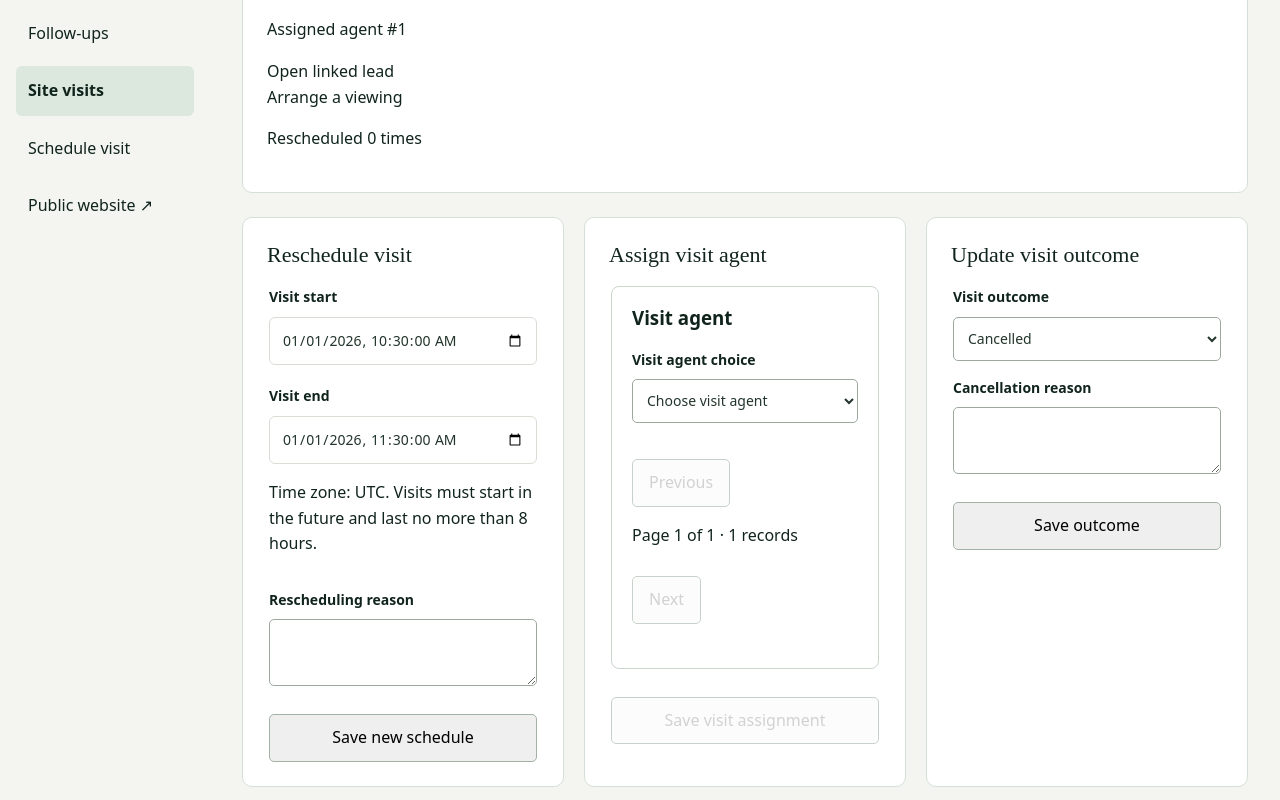
Scenario: assigns an eligible visit agent through a narrow PATCH
(page scrolled)
Step 1. Select "Ravi" in the dropdown labelled "Visit agent choice" → (745, 401), box [632,379,858,423]
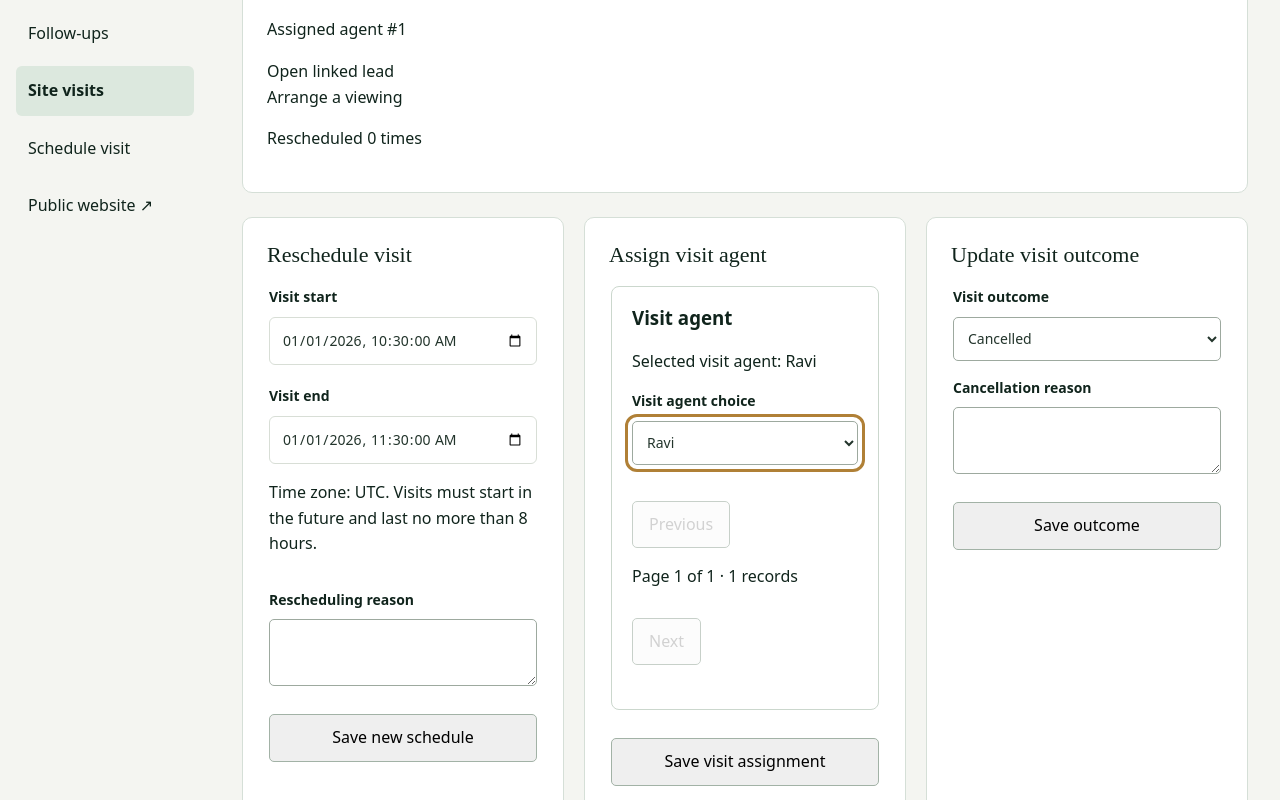
Step 2. Click the button "Save visit assignment" → (745, 762), box [611,738,879,786]
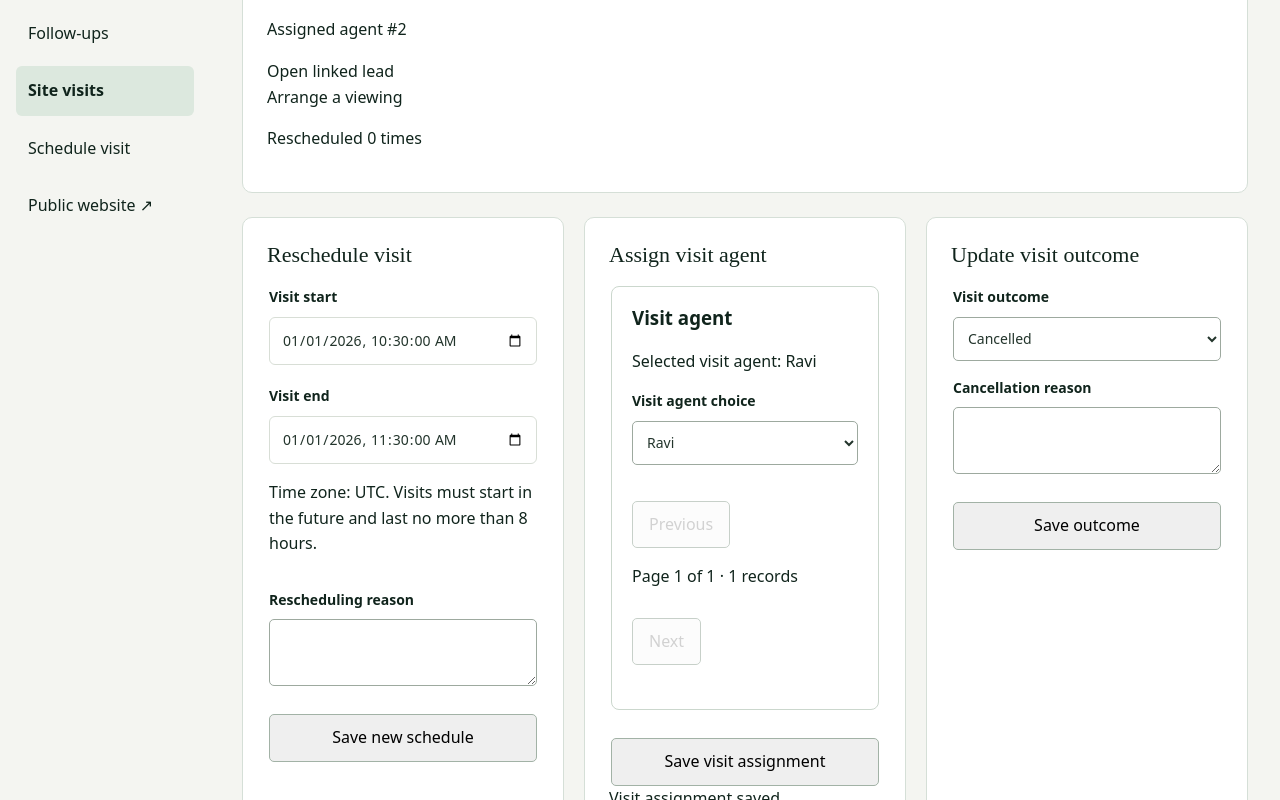
Expected: the text "Assigned agent #2" is shown, [267,18,407,40]
